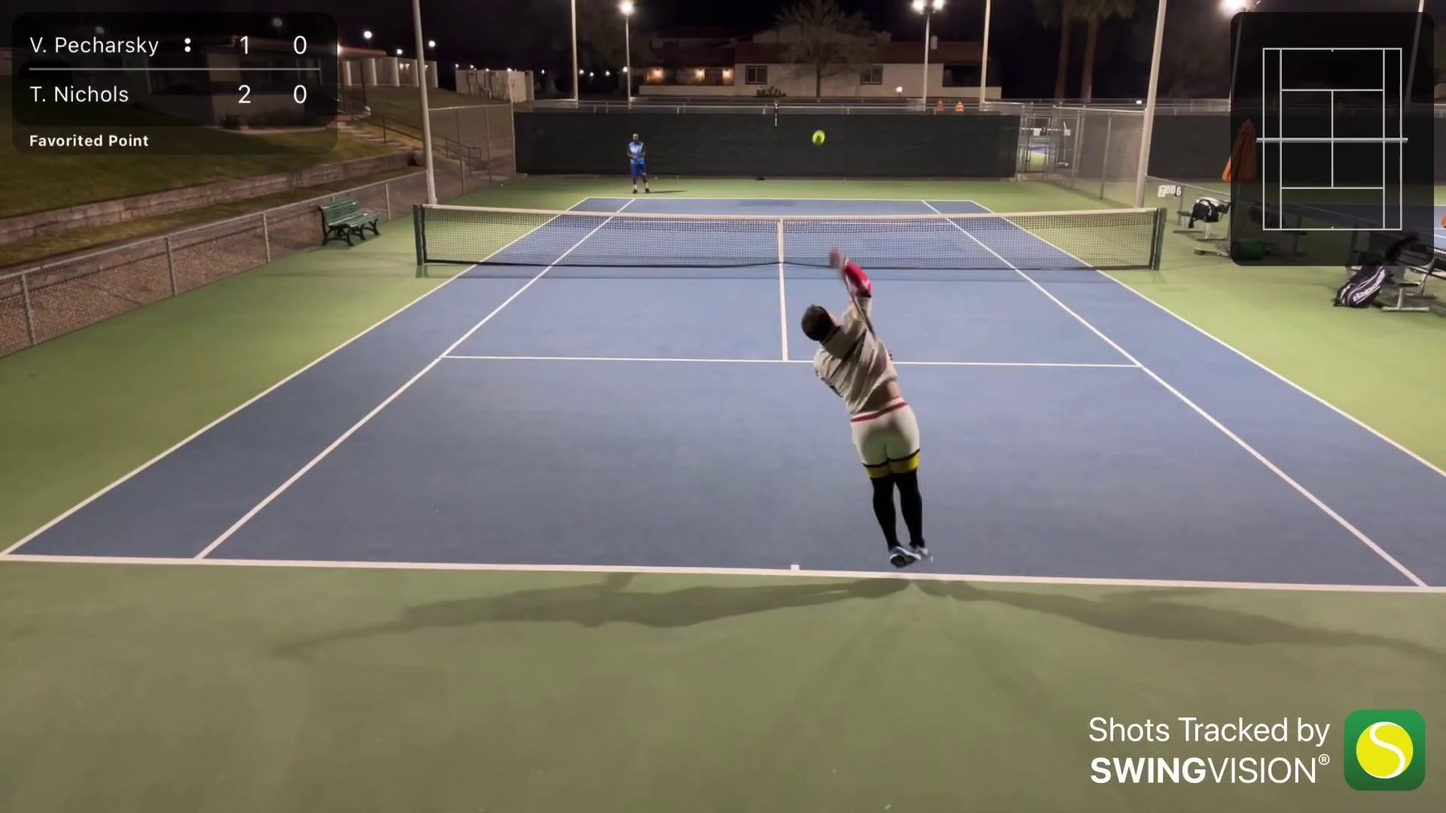ball: (812, 130, 827, 147)
